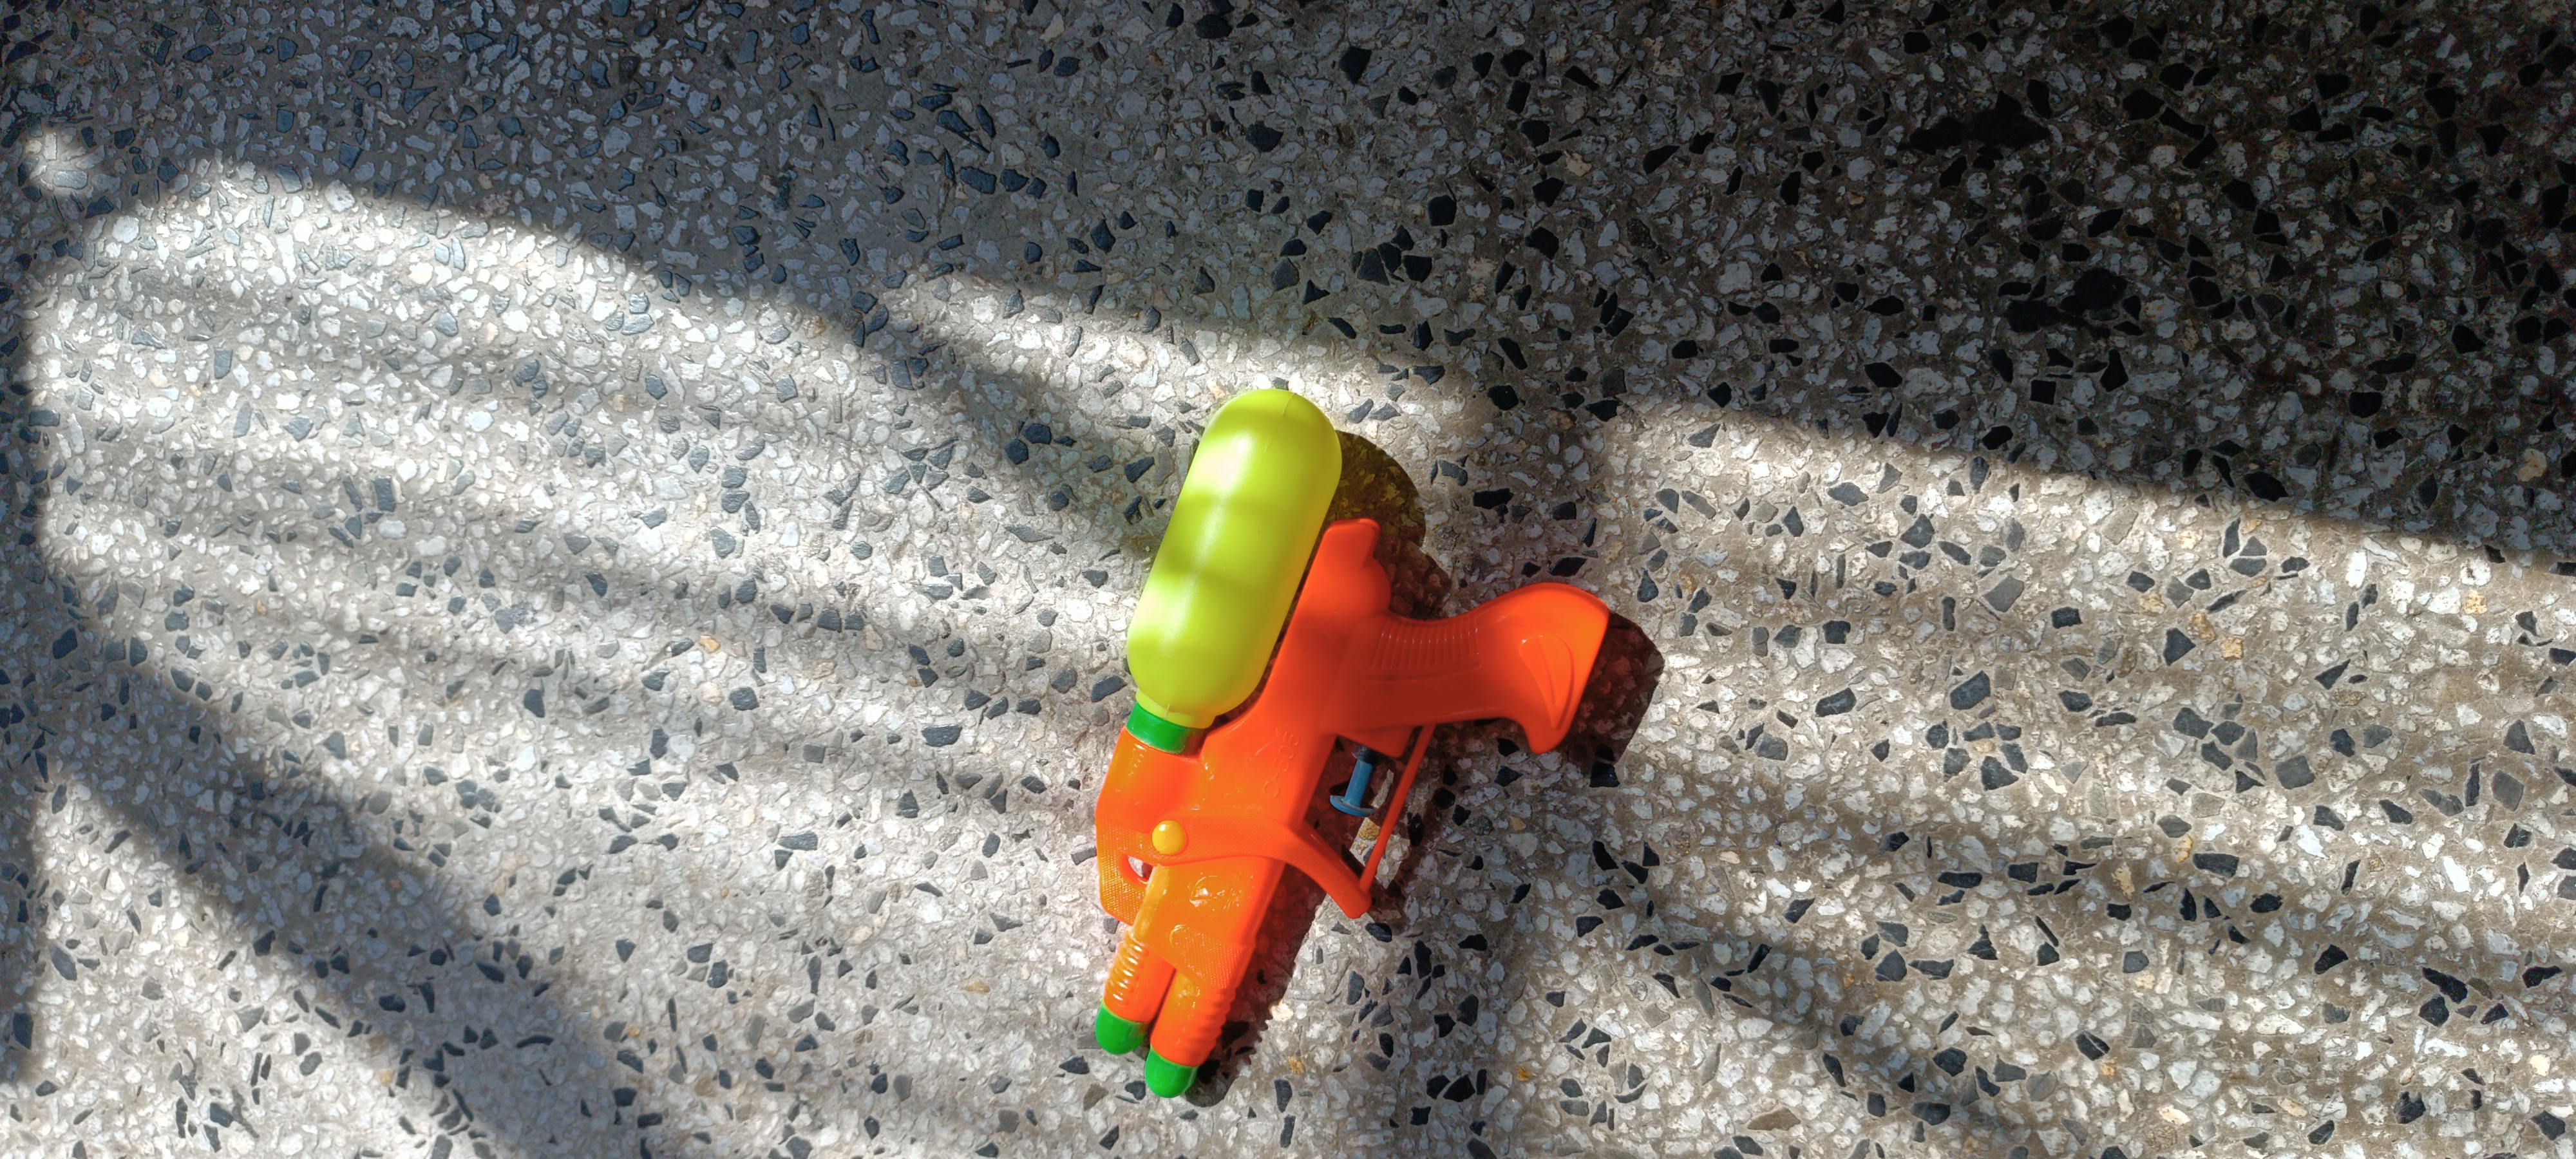Water Gun: (1092, 389, 1610, 1098)
